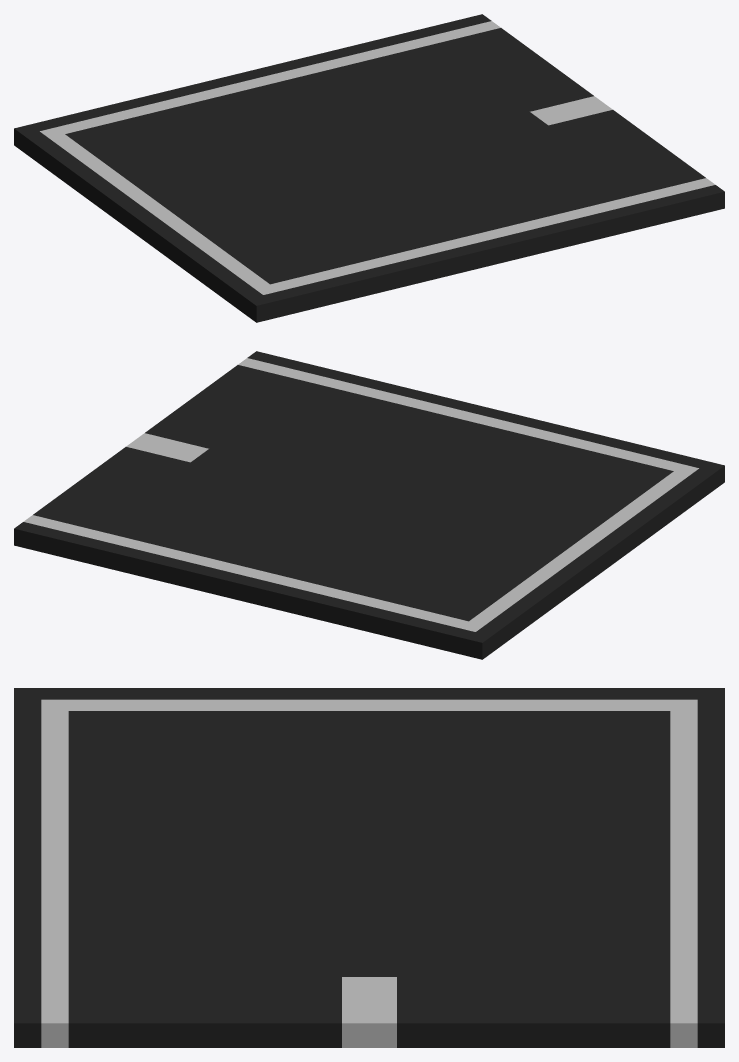
Rendered from road-edgy-dead-end-1.gltf.
3 views of the same model, one above another, from view 1: azimuth 30°, elevation 25°; view 2: azimuth 150°, elevation 25°; view 3: azimuth 270°, elevation 25° (orthographic). The views are drawn at different scales.
Parts seen in each view (by area): view 1: road-edgy-dead-end-1_model; view 2: road-edgy-dead-end-1_model; view 3: road-edgy-dead-end-1_model.
Boxes of the visible parts, x1,y1,x2,y2 form: road-edgy-dead-end-1_model: (14, 14, 724, 322); road-edgy-dead-end-1_model: (14, 351, 724, 659); road-edgy-dead-end-1_model: (14, 688, 724, 1047).
Size of the model in its own units: 2.9 by 0.1 by 2.6.
1 material, 1 textured.
